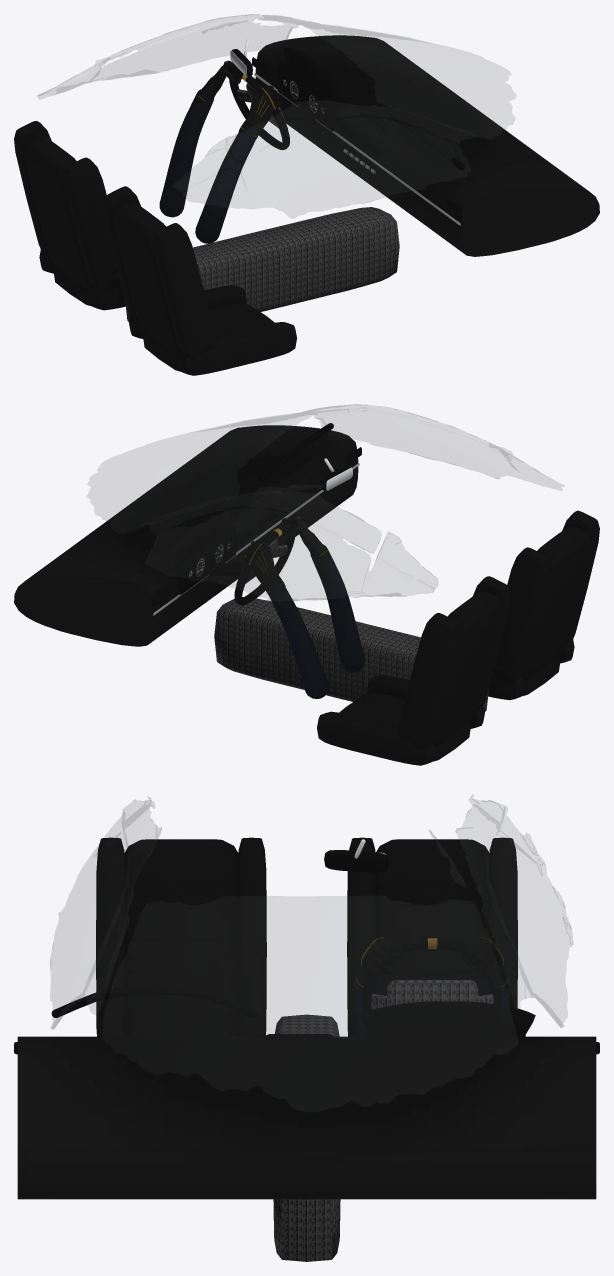
File: rpx_hyperion_cockpit_mid.glb
3 views of the same model, one above another, from view 1: azimuth 30°, elevation 25°; view 2: azimuth 150°, elevation 25°; view 3: azimuth 270°, elevation 25° (orthographic). The views are drawn at different scales.
Visible parts, largest first — view 1: cockpit_shell, window_R, cabin_glass, hands, window_L, steering_wheel; view 2: cockpit_shell, window_L, cabin_glass, window_R, hands, steering_wheel; view 3: cockpit_shell, cabin_glass, window_L, window_R, steering_wheel, hands.
Part boxes in pixels (x1=…): cockpit_shell: x1=14, y1=35, x2=599, y2=375; window_R: x1=173, y1=101, x2=470, y2=216; cabin_glass: x1=37, y1=14, x2=516, y2=217; hands: x1=159, y1=60, x2=281, y2=243; window_L: x1=38, y1=15, x2=310, y2=98; steering_wheel: x1=229, y1=68, x2=289, y2=150; cockpit_shell: x1=14, y1=423, x2=599, y2=765; window_L: x1=148, y1=485, x2=437, y2=601; cabin_glass: x1=87, y1=406, x2=519, y2=600; window_R: x1=303, y1=404, x2=563, y2=490; hands: x1=242, y1=516, x2=364, y2=698; steering_wheel: x1=234, y1=524, x2=295, y2=605; cockpit_shell: x1=14, y1=837, x2=599, y2=1261; cabin_glass: x1=58, y1=800, x2=571, y2=1112; window_L: x1=429, y1=795, x2=573, y2=1024; window_R: x1=50, y1=797, x2=161, y2=1029; steering_wheel: x1=362, y1=938, x2=502, y2=1012; hands: x1=356, y1=937, x2=508, y2=1036.
Size of the model in its own units: 1.81 by 1.01 by 1.54.
5 materials, 3 textured.
